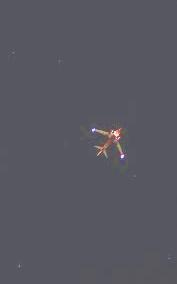Plane: (74, 104, 139, 177)
